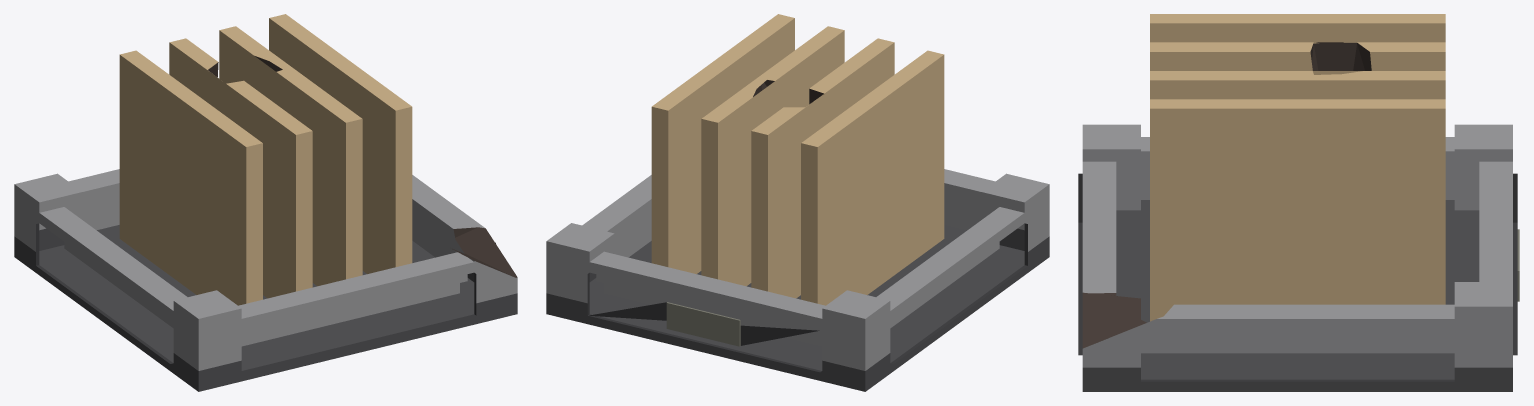
The model's file is vge_d_smallheatsink.obj.
3 views of the same model, side by side, from view 1: azimuth 30°, elevation 25°; view 2: azimuth 150°, elevation 25°; view 3: azimuth 270°, elevation 25° (orthographic). The views are drawn at different scales.
Visible parts, largest first — view 1: vge_d_smallheatsink; view 2: vge_d_smallheatsink; view 3: vge_d_smallheatsink.
Boxes of the visible parts, left/top/right/bottom form: vge_d_smallheatsink: left=14, top=14, right=517, bottom=391; vge_d_smallheatsink: left=546, top=14, right=1049, bottom=391; vge_d_smallheatsink: left=1078, top=14, right=1519, bottom=391.
Bounding box in the file's own units: 1.96 × 1.18 × 1.97.
